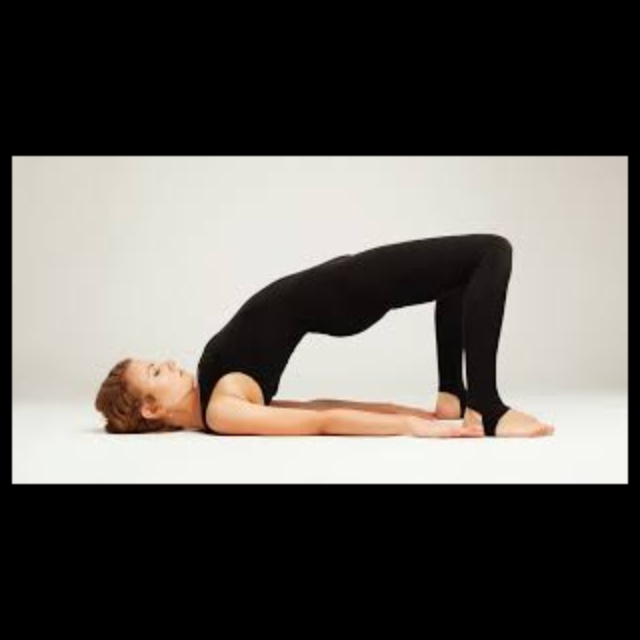Bridge_Pose: (80, 228, 567, 450)
